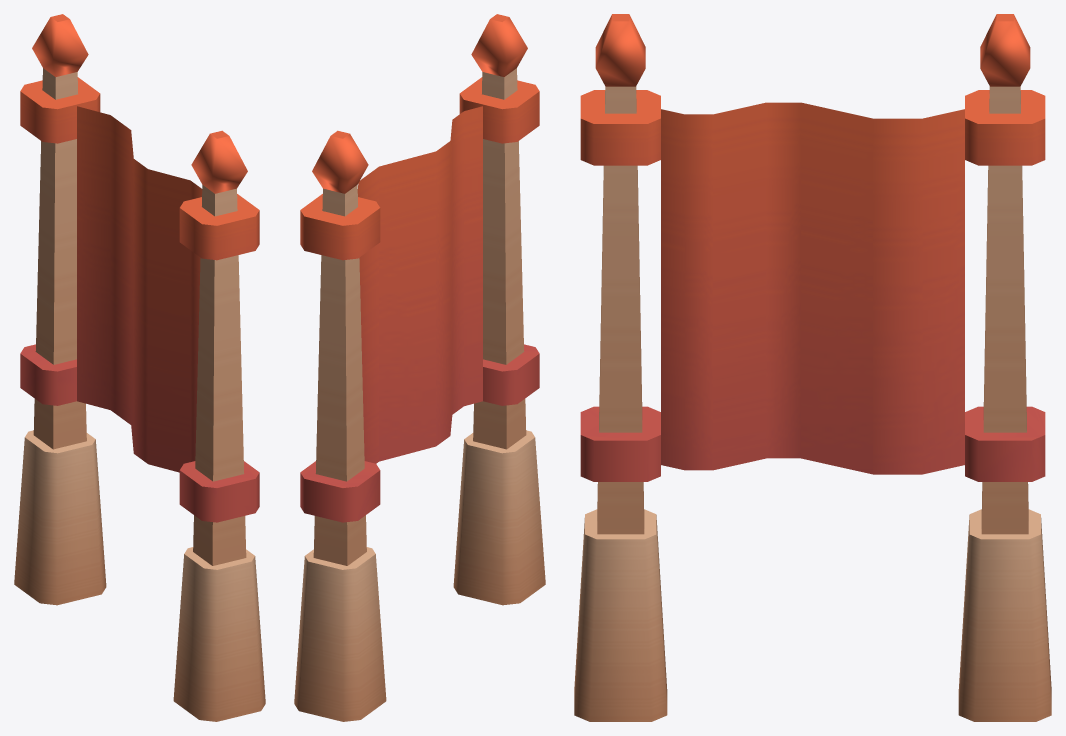
File: flag-wide.fbx
3 renders of one model, left to right at view 1: azimuth 30°, elevation 25°; view 2: azimuth 150°, elevation 25°; view 3: azimuth 270°, elevation 25°, orthographic. The views are drawn at different scales.
Parts seen in each view (by area): view 1: flag-wide; view 2: flag-wide; view 3: flag-wide.
Boxes of the visible parts, x1,y1,x2,y2 form: flag-wide: (14,14,265,721); flag-wide: (294,14,545,721); flag-wide: (574,14,1051,721).
Bounding box in the file's own units: 0.1064 × 0.5469 × 0.8656.
